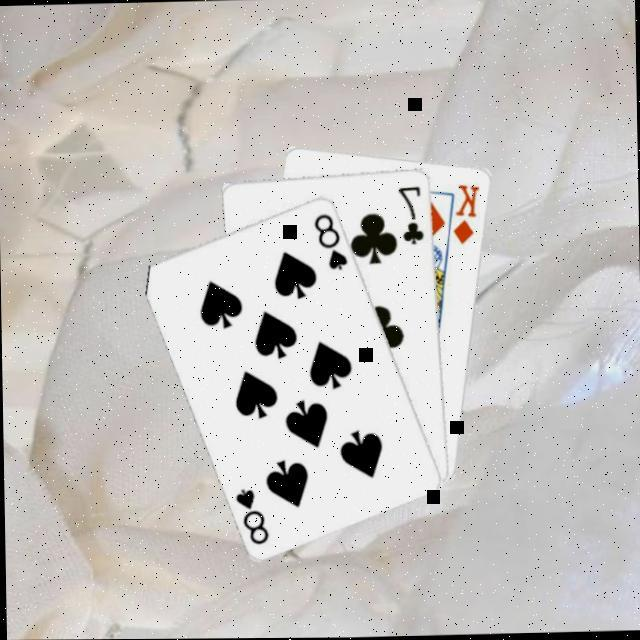7C: (392, 181, 424, 246)
8S: (307, 208, 348, 272), (230, 483, 270, 547)
KD: (446, 180, 481, 247)
